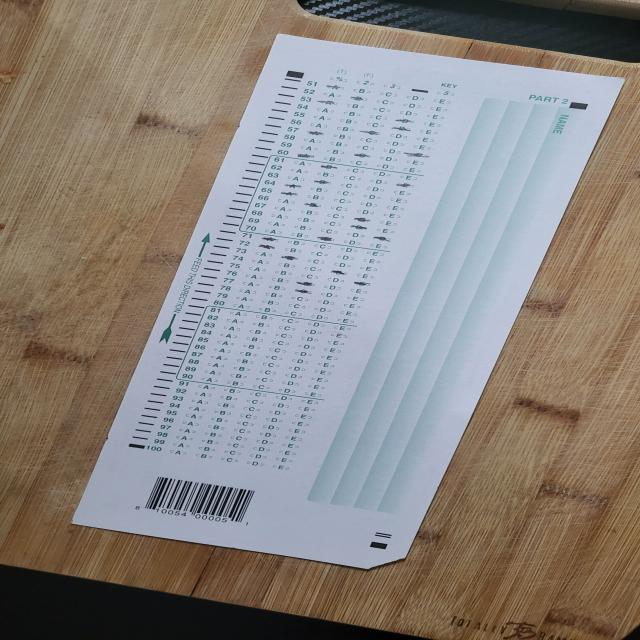scantron_back: (71, 34, 628, 569)
